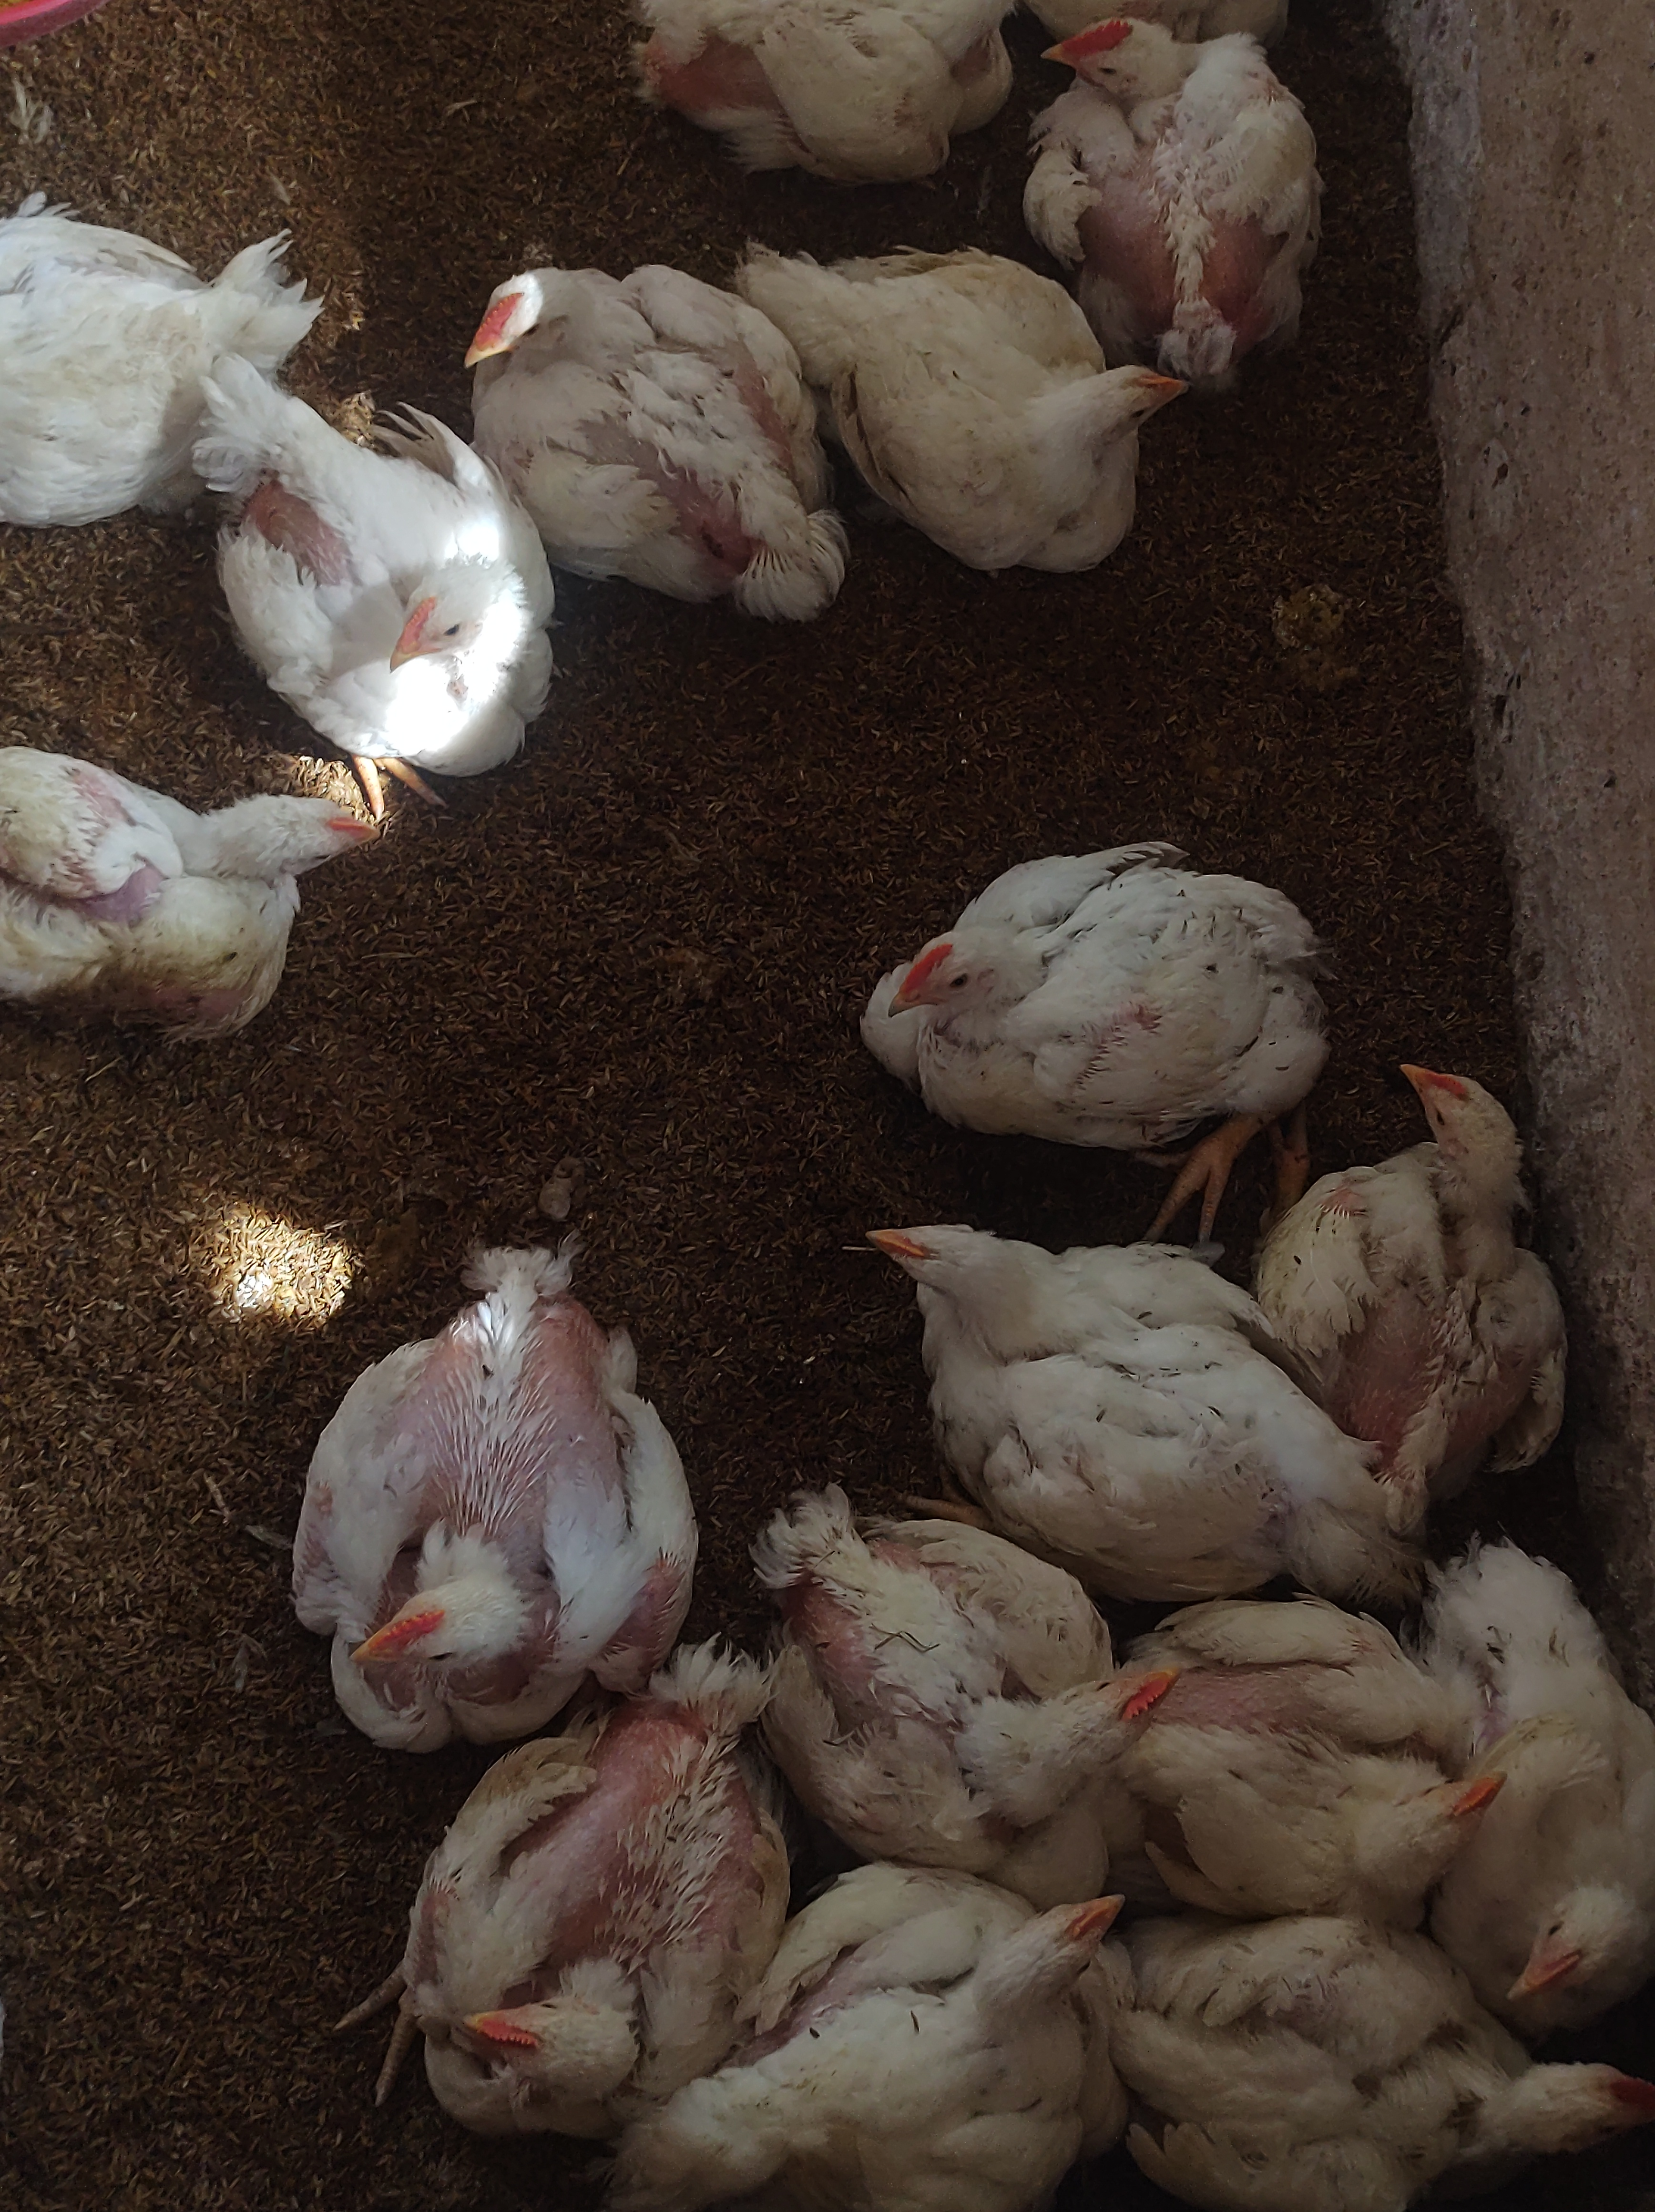Pollos: (280, 1223, 706, 1741), (391, 1650, 819, 2130), (847, 1209, 1332, 1621), (833, 781, 1326, 1155), (196, 334, 565, 829), (1283, 1049, 1648, 1523), (741, 243, 1172, 645), (469, 150, 794, 656), (681, 1882, 1133, 2212), (1133, 1941, 1655, 2212), (749, 1532, 1142, 1857), (0, 756, 410, 1043), (0, 170, 323, 534), (1041, 9, 1356, 374), (1158, 1605, 1483, 1930), (1472, 1548, 1655, 2071), (614, 0, 1031, 209)
